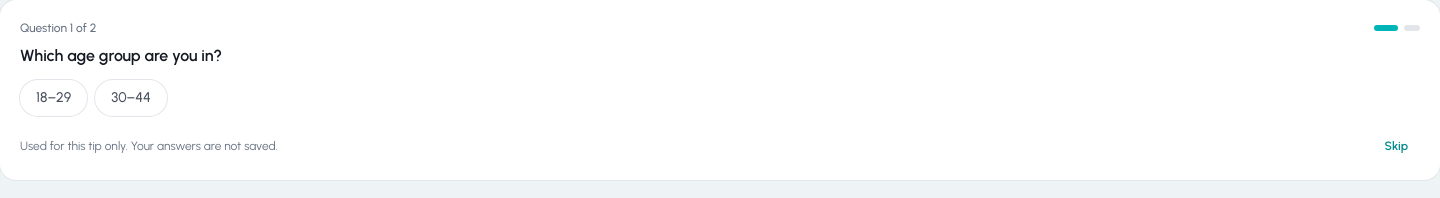
Test case: HealthTipQuestionCard › answers and moves on, without submitting until the last question
This screenshot has width=1440, height=198.
Click the button "30–44" at [131, 98], box [95,80,167,116]
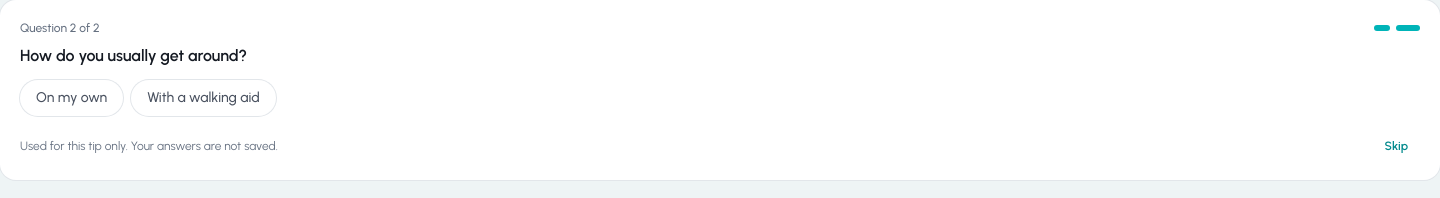
Expected: the text "Question 2 of 2" is shown, [20,20,100,36]
Expected: the text "How do you usually get around?" is shown, [20,44,247,68]
